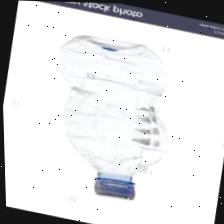plastic: (37, 23, 194, 219)
